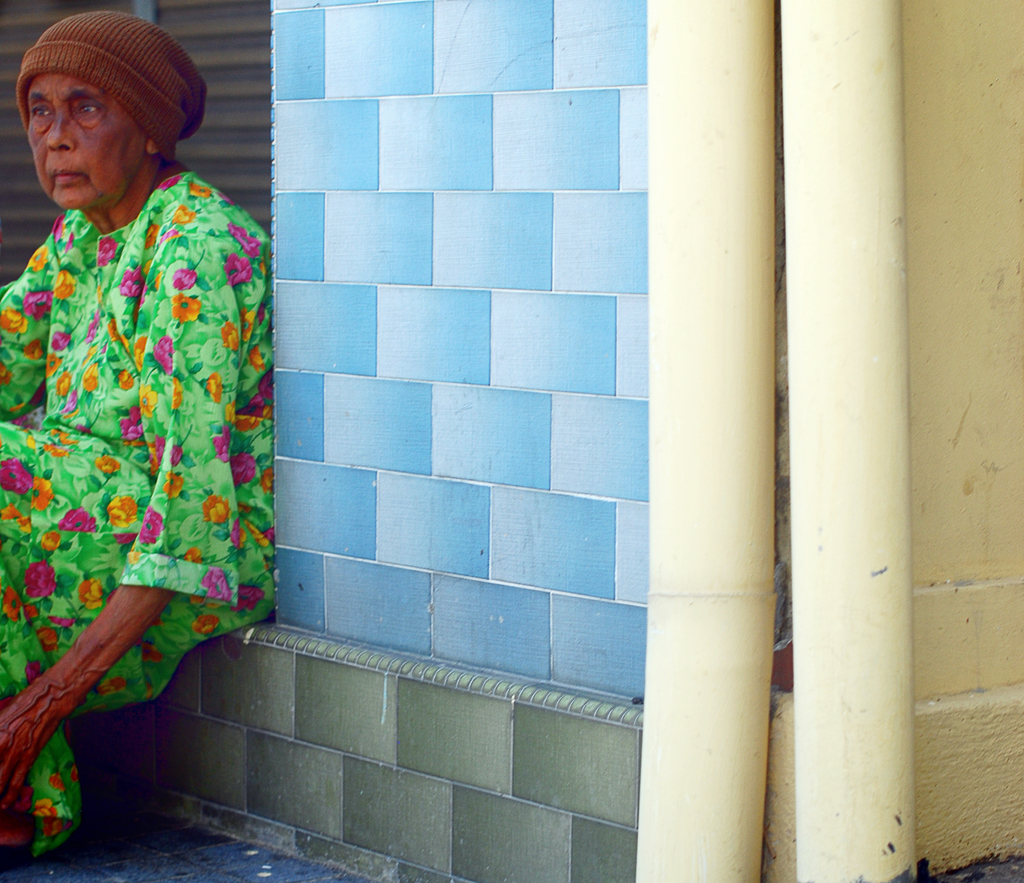hats: (17, 11, 205, 212)
